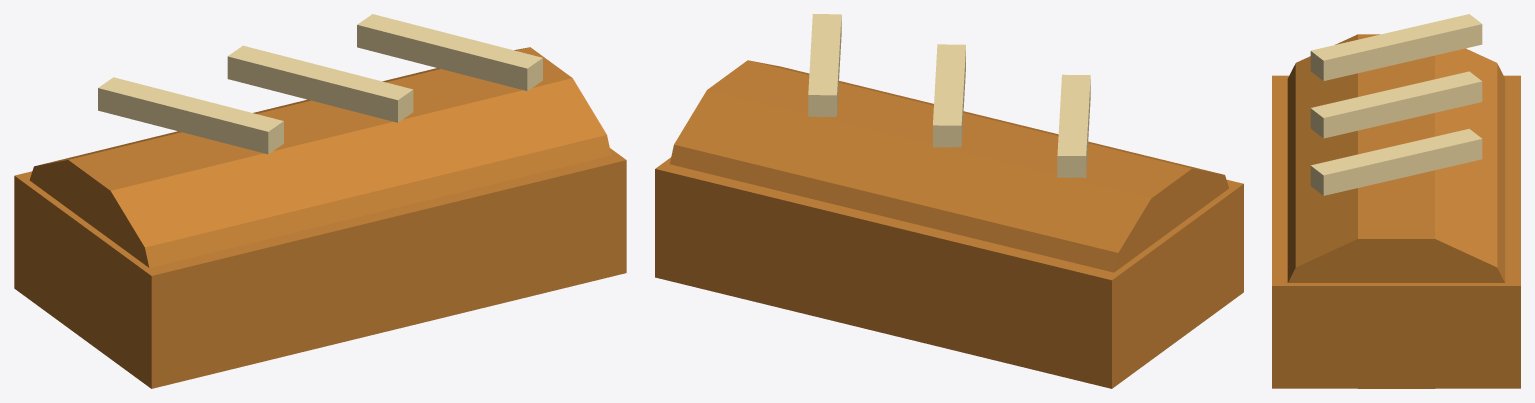
File: bread_loaf.glb
3 renders of one model, left to right at view 1: azimuth 30°, elevation 25°; view 2: azimuth 150°, elevation 25°; view 3: azimuth 270°, elevation 25°, orthographic. The views are drawn at different scales.
Parts seen in each view (by area): view 1: bread_loaf; view 2: bread_loaf; view 3: bread_loaf.
Boxes of the visible parts, bbox=[...] form: bread_loaf: bbox=[14, 14, 626, 388]; bread_loaf: bbox=[655, 14, 1243, 388]; bread_loaf: bbox=[1272, 14, 1520, 388].
Bounding box in the file's own units: 0.22 × 0.0936 × 0.11.
